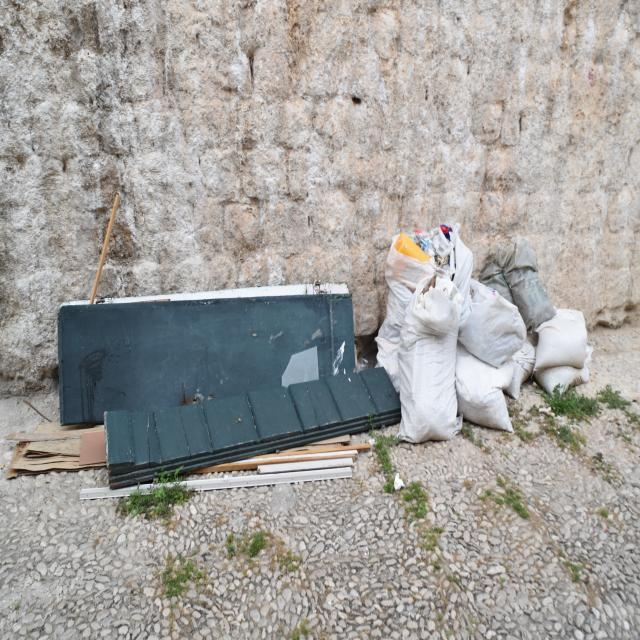entulho: (42, 294, 364, 418), (102, 364, 411, 491), (445, 241, 594, 424), (408, 270, 466, 460), (532, 299, 595, 398)
lixo domiciliar: (395, 227, 474, 282)
